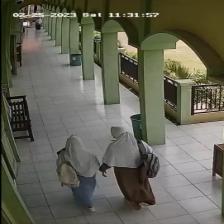HijabSyar-i: (104, 126, 155, 168), (54, 135, 99, 179)
